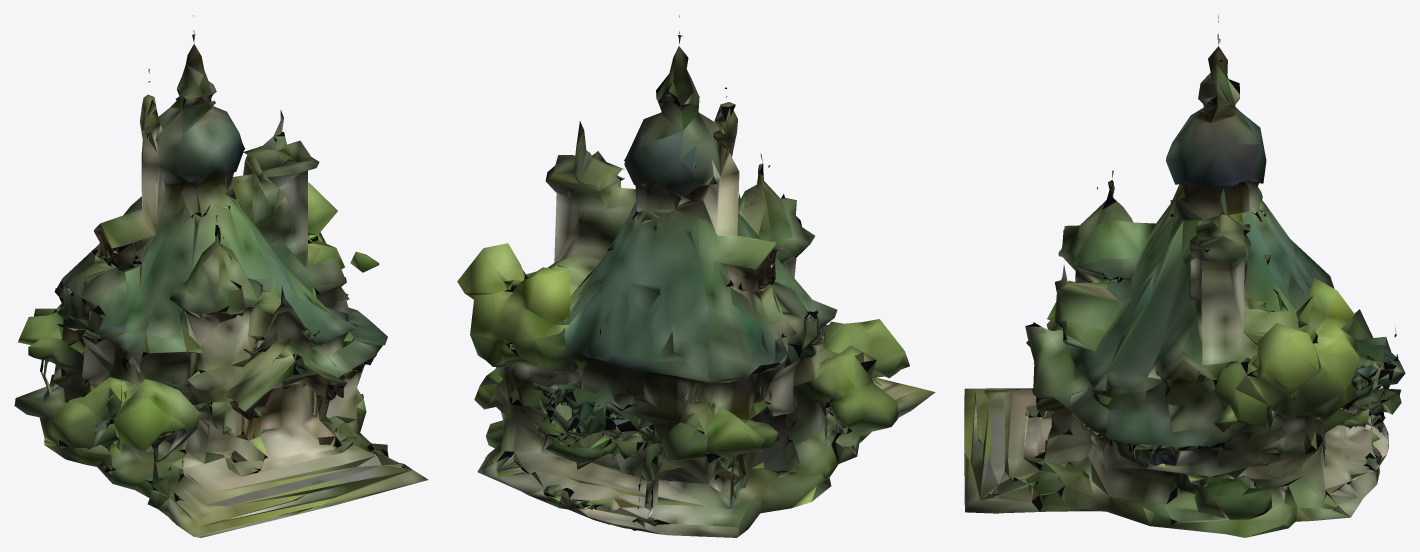
The model's file is base_building.glb.
3 views of the same model, side by side, from view 1: azimuth 30°, elevation 25°; view 2: azimuth 150°, elevation 25°; view 3: azimuth 270°, elevation 25° (orthographic). The views are drawn at different scales.
Visible parts, largest first — view 1: Base; view 2: Base; view 3: Base.
Part boxes in pixels (x1,y1,x2,y2): Base: (14,15,428,537); Base: (457,15,935,537); Base: (964,15,1405,537).
Bounding box in the file's own units: 1.73 × 1.9 × 1.72.
1 material, 1 textured.
